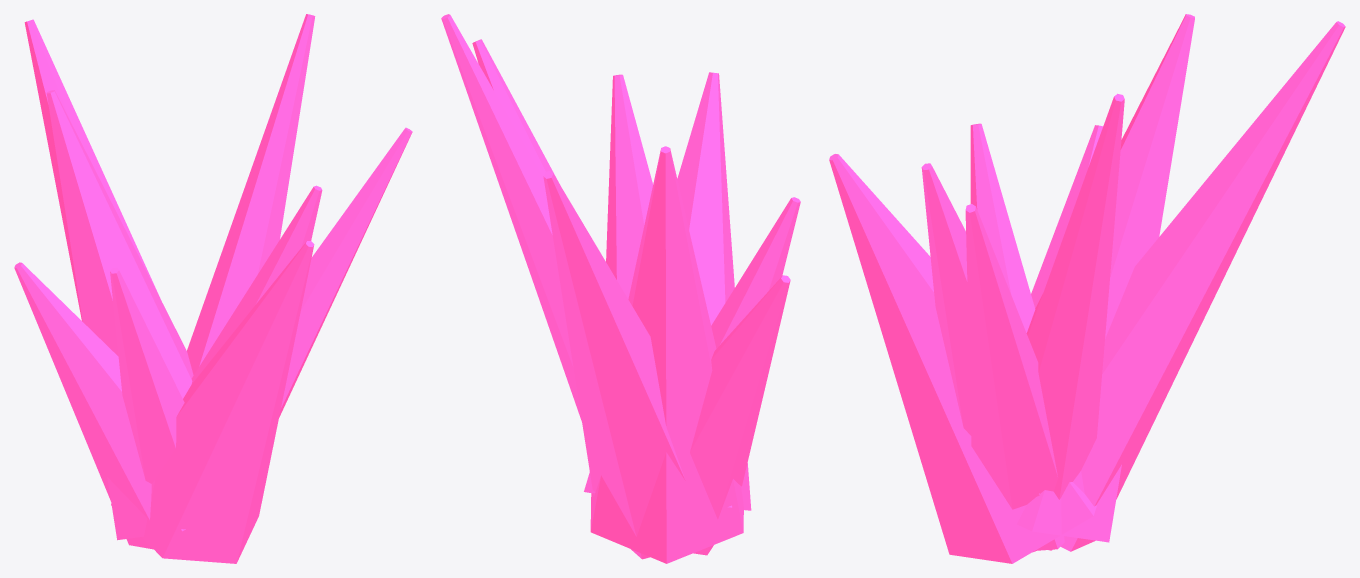
File: VFX_CrystalShards_Hell_v01.glb
The picture shows the model from 3 angles, left to right: view 1: azimuth 30°, elevation 25°; view 2: azimuth 150°, elevation 25°; view 3: azimuth 270°, elevation 25°; orthographic projection. The views are drawn at different scales.
Visible parts, largest first — view 1: MESH_CrystalShard_06, MESH_CrystalShard_03, MESH_CrystalShard_04, MESH_CrystalShard_05, MESH_CrystalShard_01, MESH_CrystalShard_07, MESH_CrystalShard_08, MESH_CrystalShard_02; view 2: MESH_CrystalShard_03, MESH_CrystalShard_08, MESH_CrystalShard_05, MESH_CrystalShard_04, MESH_CrystalShard_06, MESH_CrystalShard_02, MESH_CrystalShard_01, MESH_CrystalShard_07; view 3: MESH_CrystalShard_08, MESH_CrystalShard_06, MESH_CrystalShard_04, MESH_CrystalShard_07, MESH_CrystalShard_03, MESH_CrystalShard_02, MESH_CrystalShard_01, MESH_CrystalShard_05.
Part boxes in pixels (box(x1,y1,x2,y2)): MESH_CrystalShard_06: box(111, 241, 314, 563); MESH_CrystalShard_03: box(46, 90, 193, 540); MESH_CrystalShard_04: box(187, 14, 315, 374); MESH_CrystalShard_05: box(14, 262, 153, 549); MESH_CrystalShard_01: box(110, 267, 184, 483); MESH_CrystalShard_07: box(279, 127, 412, 417); MESH_CrystalShard_08: box(24, 19, 161, 321); MESH_CrystalShard_02: box(191, 185, 322, 383); MESH_CrystalShard_03: box(590, 146, 743, 563); MESH_CrystalShard_08: box(543, 171, 685, 559); MESH_CrystalShard_05: box(690, 275, 790, 555); MESH_CrystalShard_04: box(441, 14, 581, 421); MESH_CrystalShard_06: box(584, 72, 751, 510); MESH_CrystalShard_02: box(606, 74, 652, 298); MESH_CrystalShard_01: box(711, 197, 800, 348); MESH_CrystalShard_07: box(472, 39, 559, 183); MESH_CrystalShard_08: box(1060, 21, 1345, 551); MESH_CrystalShard_06: box(829, 154, 1096, 563); MESH_CrystalShard_04: box(1028, 93, 1124, 550); MESH_CrystalShard_07: box(965, 204, 1057, 552); MESH_CrystalShard_03: box(1016, 14, 1194, 542); MESH_CrystalShard_02: box(921, 163, 1064, 550); MESH_CrystalShard_01: box(970, 123, 1035, 332); MESH_CrystalShard_05: box(1031, 125, 1102, 308).
Size of the model in its own units: 0.1676 by 0.2161 by 0.1864.
